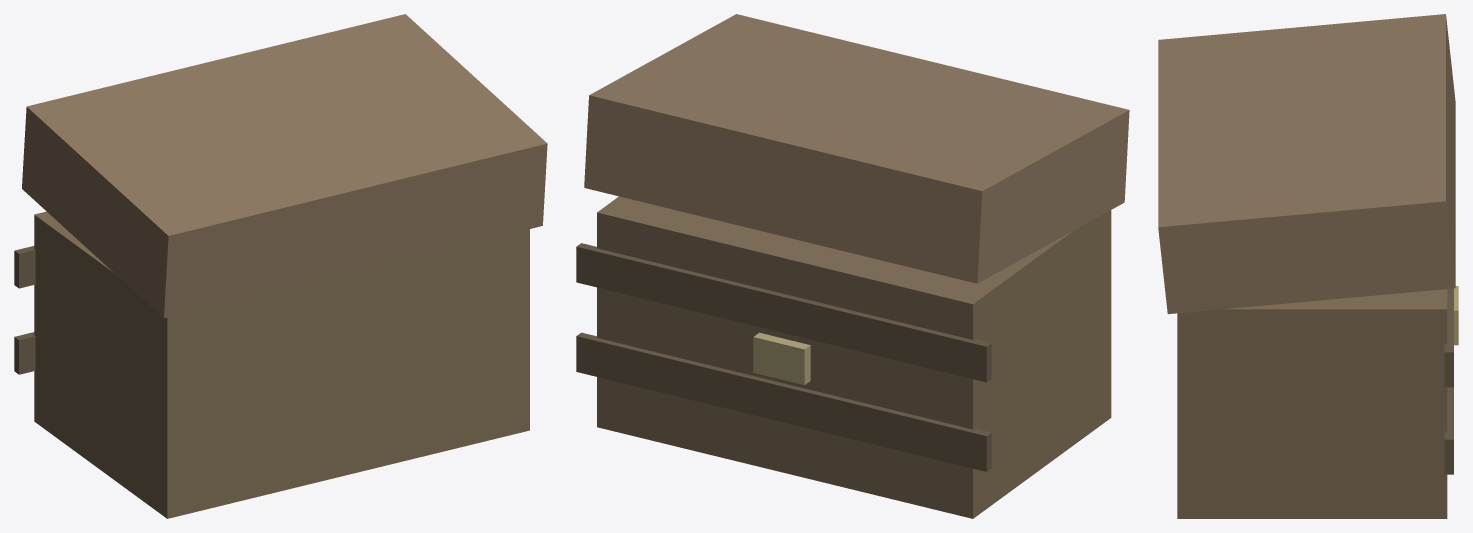
Rendered from treasure_chest_v0.glb.
The picture shows the model from 3 angles, left to right: view 1: azimuth 30°, elevation 25°; view 2: azimuth 150°, elevation 25°; view 3: azimuth 270°, elevation 25°; orthographic projection. The views are drawn at different scales.
Visible parts, largest first — view 1: world; view 2: world; view 3: world.
Part boxes in pixels (x1,y1,x2,y2): world: (14,14,547,518); world: (576,14,1129,518); world: (1158,14,1458,518).
Size of the model in its own units: 1 by 0.767 by 0.6497.
